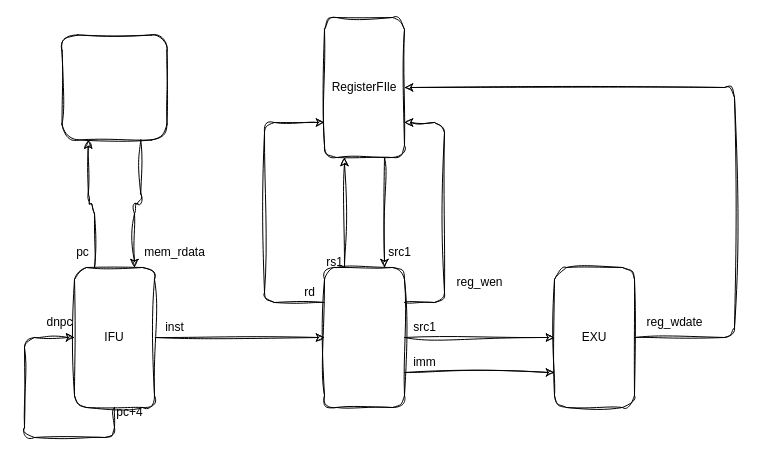
This 760x463 diagram has some shape labels left out. The shapes that lost their labels are listed below. From the top down, each one's box as (x1, y1, x2, y2) in pixels, then its label:
(61, 34, 167, 140): Memory
(324, 266, 404, 408): IDU
